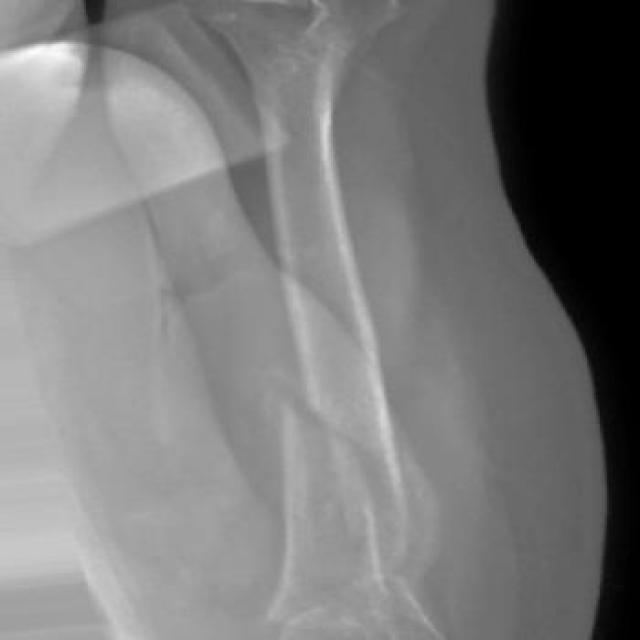Fracture: (271, 388, 417, 486)
